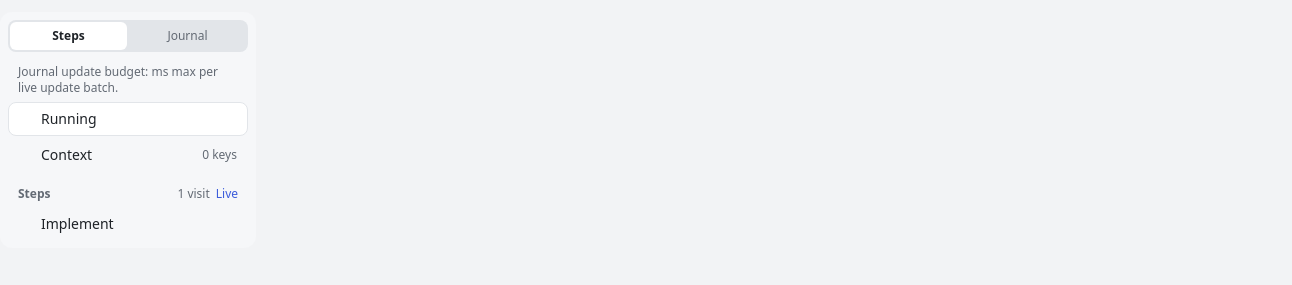
Test case: RunVisitsCard steering › posts the message to the node and shows the delivery
Step 1. Click the option with test id "run-visit-row" → click(128, 224), box x1=8 y1=208 x2=248 y2=240
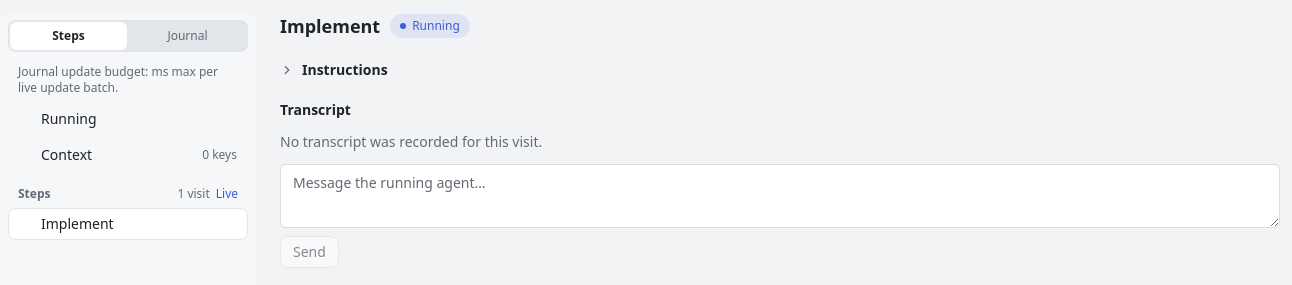
Step 2. Type "Use the existing helper." into the text box with test id "run-visit-steer-input" → (780, 196), box x1=280 y1=164 x2=1280 y2=228
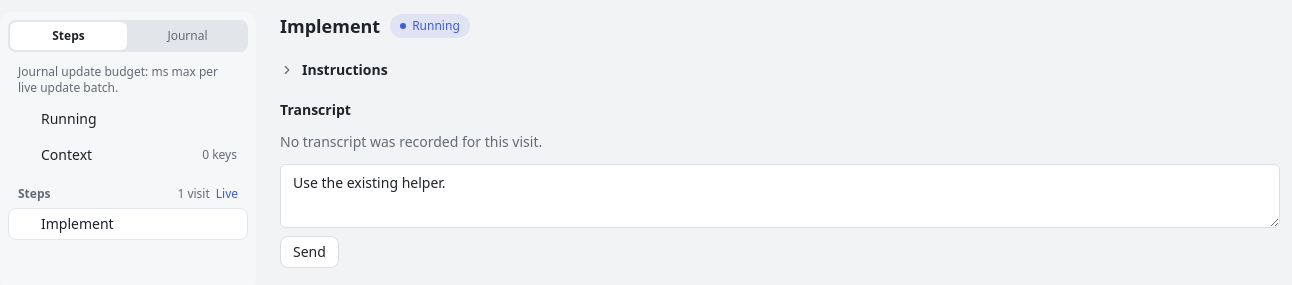
Step 3. Click the button with test id "run-visit-steer-send" → click(309, 252), box x1=280 y1=236 x2=339 y2=268
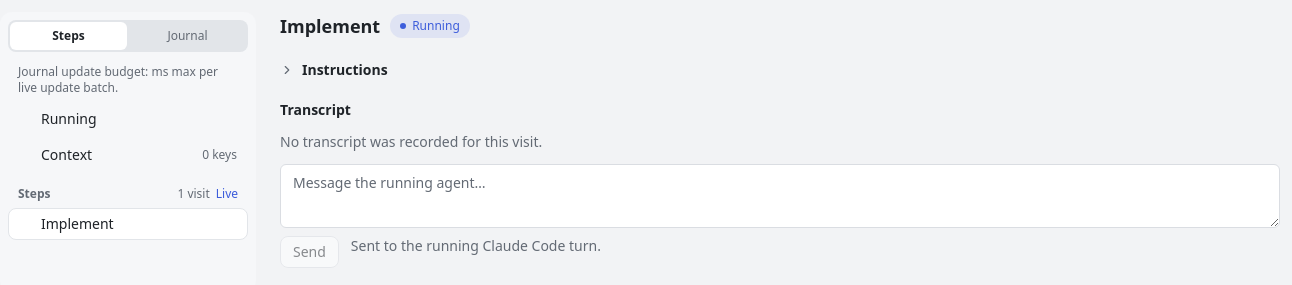
Expected: the message with test id "run-visit-steer-delivered" reads "Sent to the running Claude Code turn.", x1=351 y1=236 x2=601 y2=255
Expected: the text box with test id "run-visit-steer-input" is empty, x1=280 y1=164 x2=1280 y2=228
